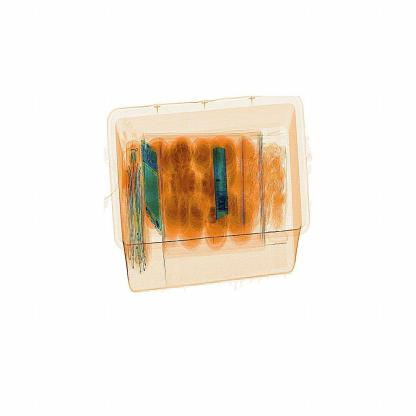pliers: (198, 130, 238, 224)
